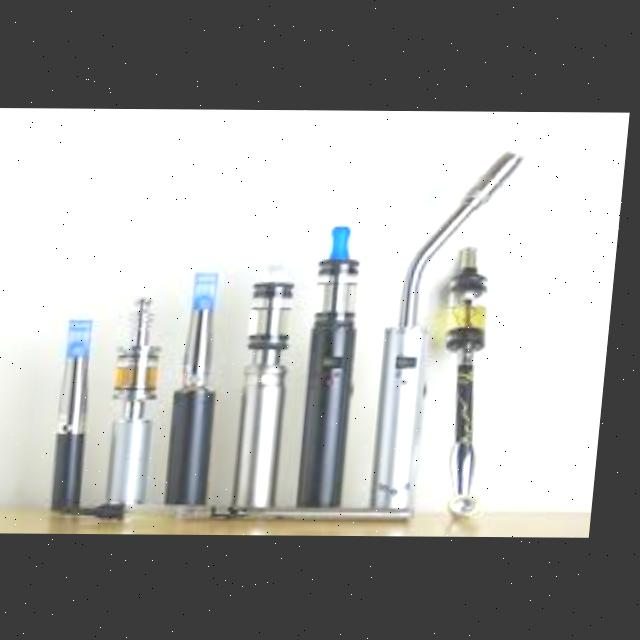vape: (379, 124, 547, 509), (430, 244, 509, 516), (305, 224, 374, 506), (242, 247, 305, 508), (172, 270, 234, 506), (110, 291, 171, 507), (59, 319, 104, 513)
